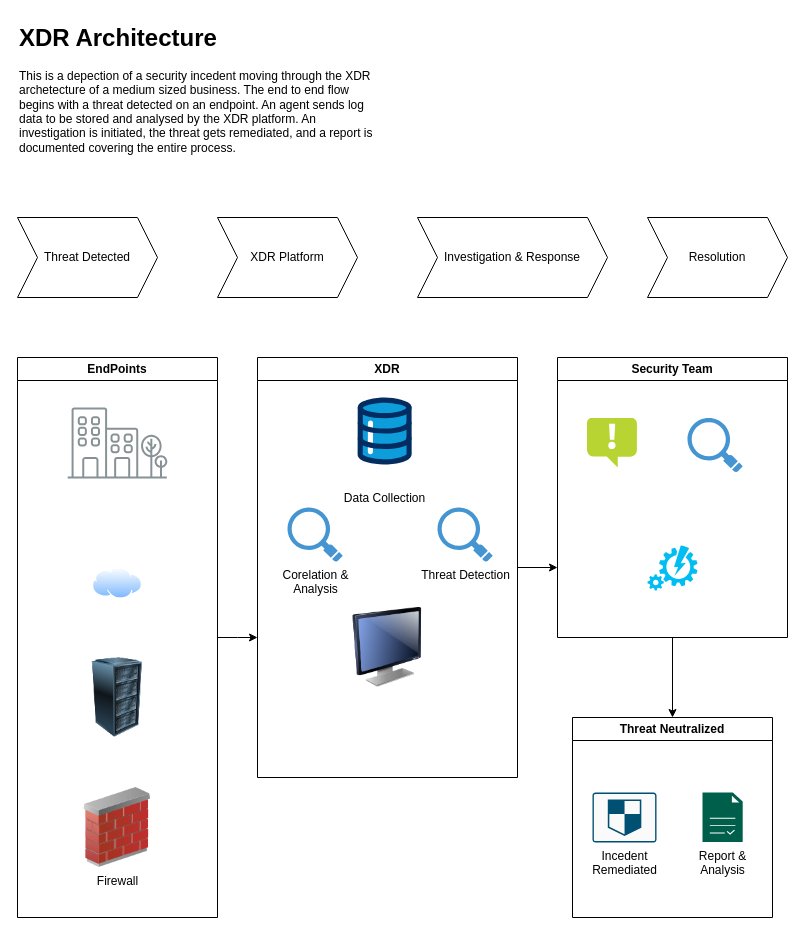
The diagram is 805 pixels wide and 935 high, and some of its shapes have lost their labels. The shapes that lost their labels are listed below. From the top down, each one's centre as x and y in pixels, then its label:
At [117,442]: "Ofice Networks".
At [612,443]: "Alert Monitoring".
At [714,445]: "Incedent Investigation".
At [117,582]: "Cloud Environment".
At [672,567]: "Automated Response".
At [387,647]: "Dashboard / Centrilzed Visibility".
At [117,697]: "Email Server".
